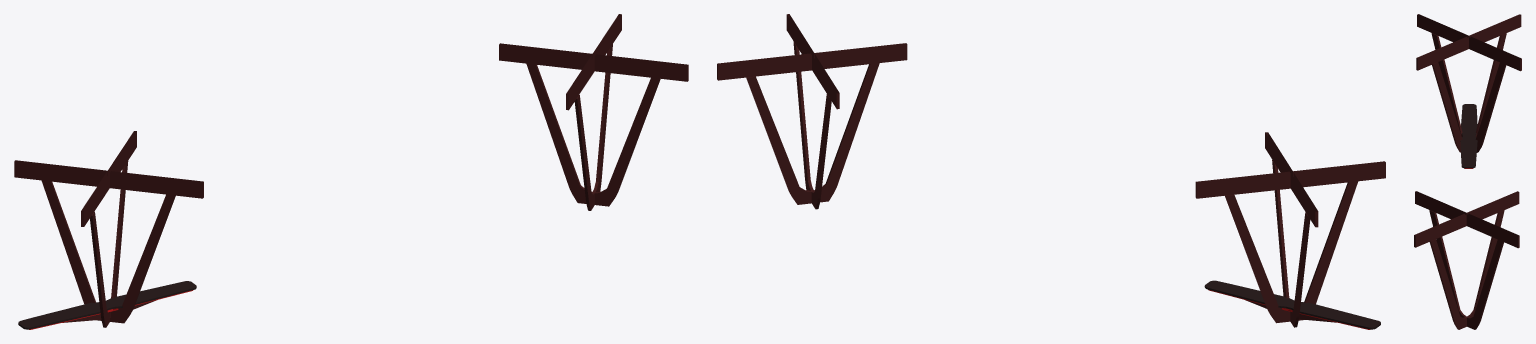
File: SM_Collons_v01.fbx
3 views of the same model, side by side, from view 1: azimuth 30°, elevation 25°; view 2: azimuth 150°, elevation 25°; view 3: azimuth 270°, elevation 25° (orthographic). The views are drawn at different scales.
Parts seen in each view (by area): view 1: Platform_Collons_v01; view 2: Platform_Collons_v01; view 3: Platform_Collons_v01.
Boxes of the visible parts, bbox=[...] form: Platform_Collons_v01: bbox=[14, 14, 688, 329]; Platform_Collons_v01: bbox=[717, 14, 1385, 329]; Platform_Collons_v01: bbox=[1414, 14, 1521, 329].
Bounding box in the file's own units: 20.69 × 4.68 × 4.07.
2 materials, 2 textured.
